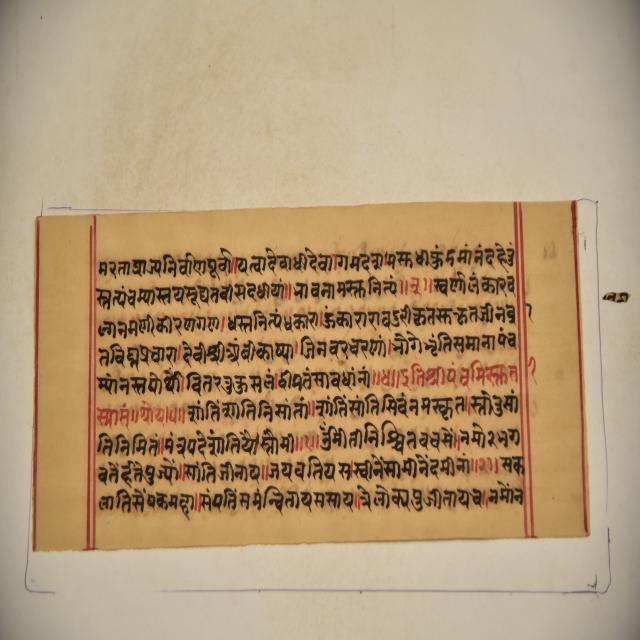text_paragraph: (29, 200, 592, 550)
